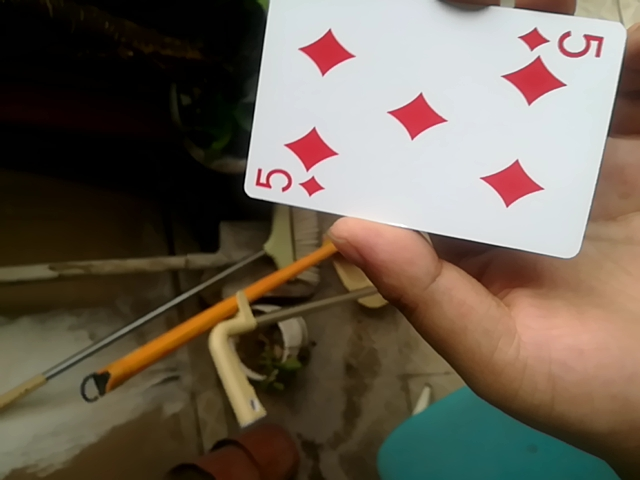fk 5: (237, 3, 631, 265)
